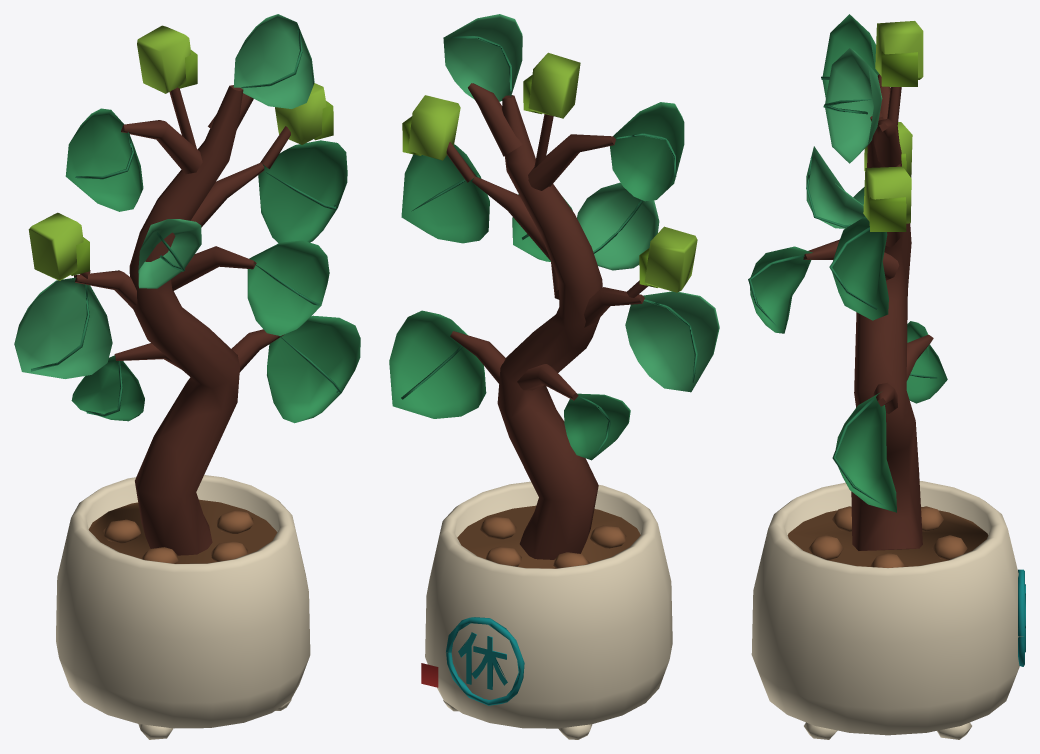
Rendered from plant.glb.
3 renders of one model, left to right at view 1: azimuth 30°, elevation 25°; view 2: azimuth 150°, elevation 25°; view 3: azimuth 270°, elevation 25°, orthographic. The views are drawn at different scales.
Parts seen in each view (by area): view 1: BentOfficePlant_Geometry; view 2: BentOfficePlant_Geometry; view 3: BentOfficePlant_Geometry.
Part boxes in pixels (box(x1,y1,x2,y2)): BentOfficePlant_Geometry: box(14, 14, 360, 739); BentOfficePlant_Geometry: box(389, 14, 719, 739); BentOfficePlant_Geometry: box(748, 14, 1025, 739).
Bounding box in the file's own units: 1.34 × 2.58 × 0.9387.
